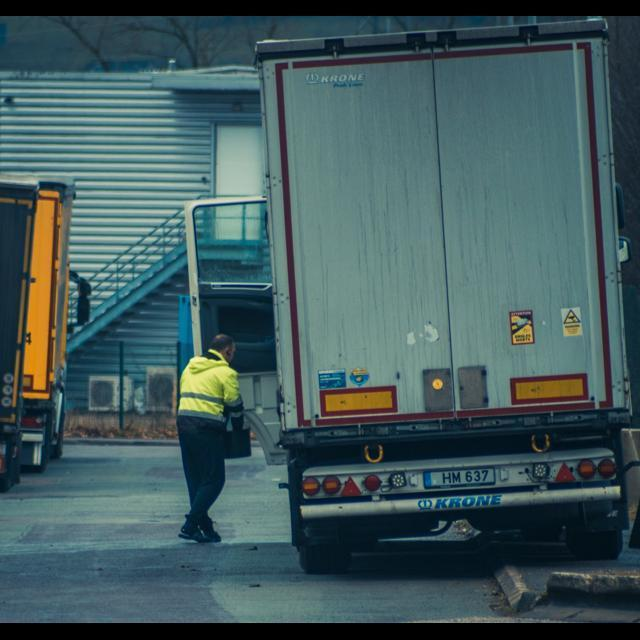safety_vest: (168, 344, 249, 441)
